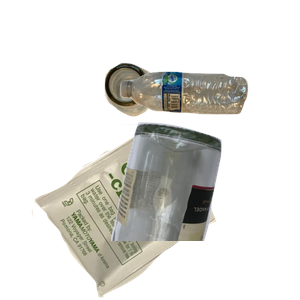glass: (109, 120, 300, 300)
metal: (102, 60, 252, 169)
plastic: (118, 69, 300, 176)
trash: (29, 124, 238, 300)
